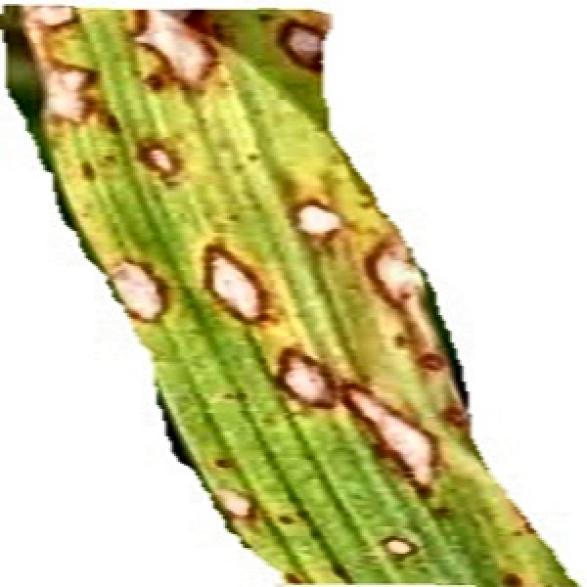Leaf_smut: (8, 4, 563, 583)
